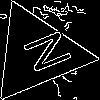N: (12, 28, 73, 79)
